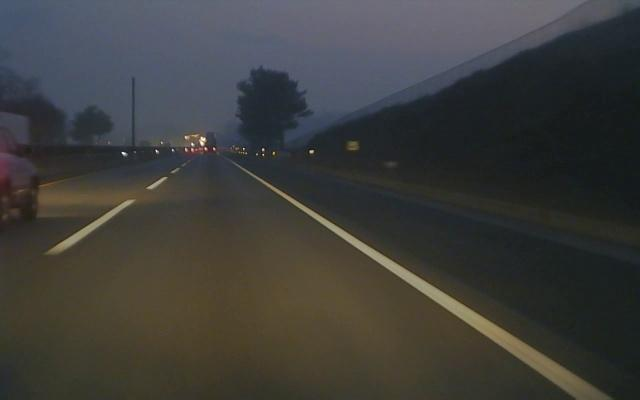lane: (225, 161, 624, 400), (36, 159, 191, 258)
